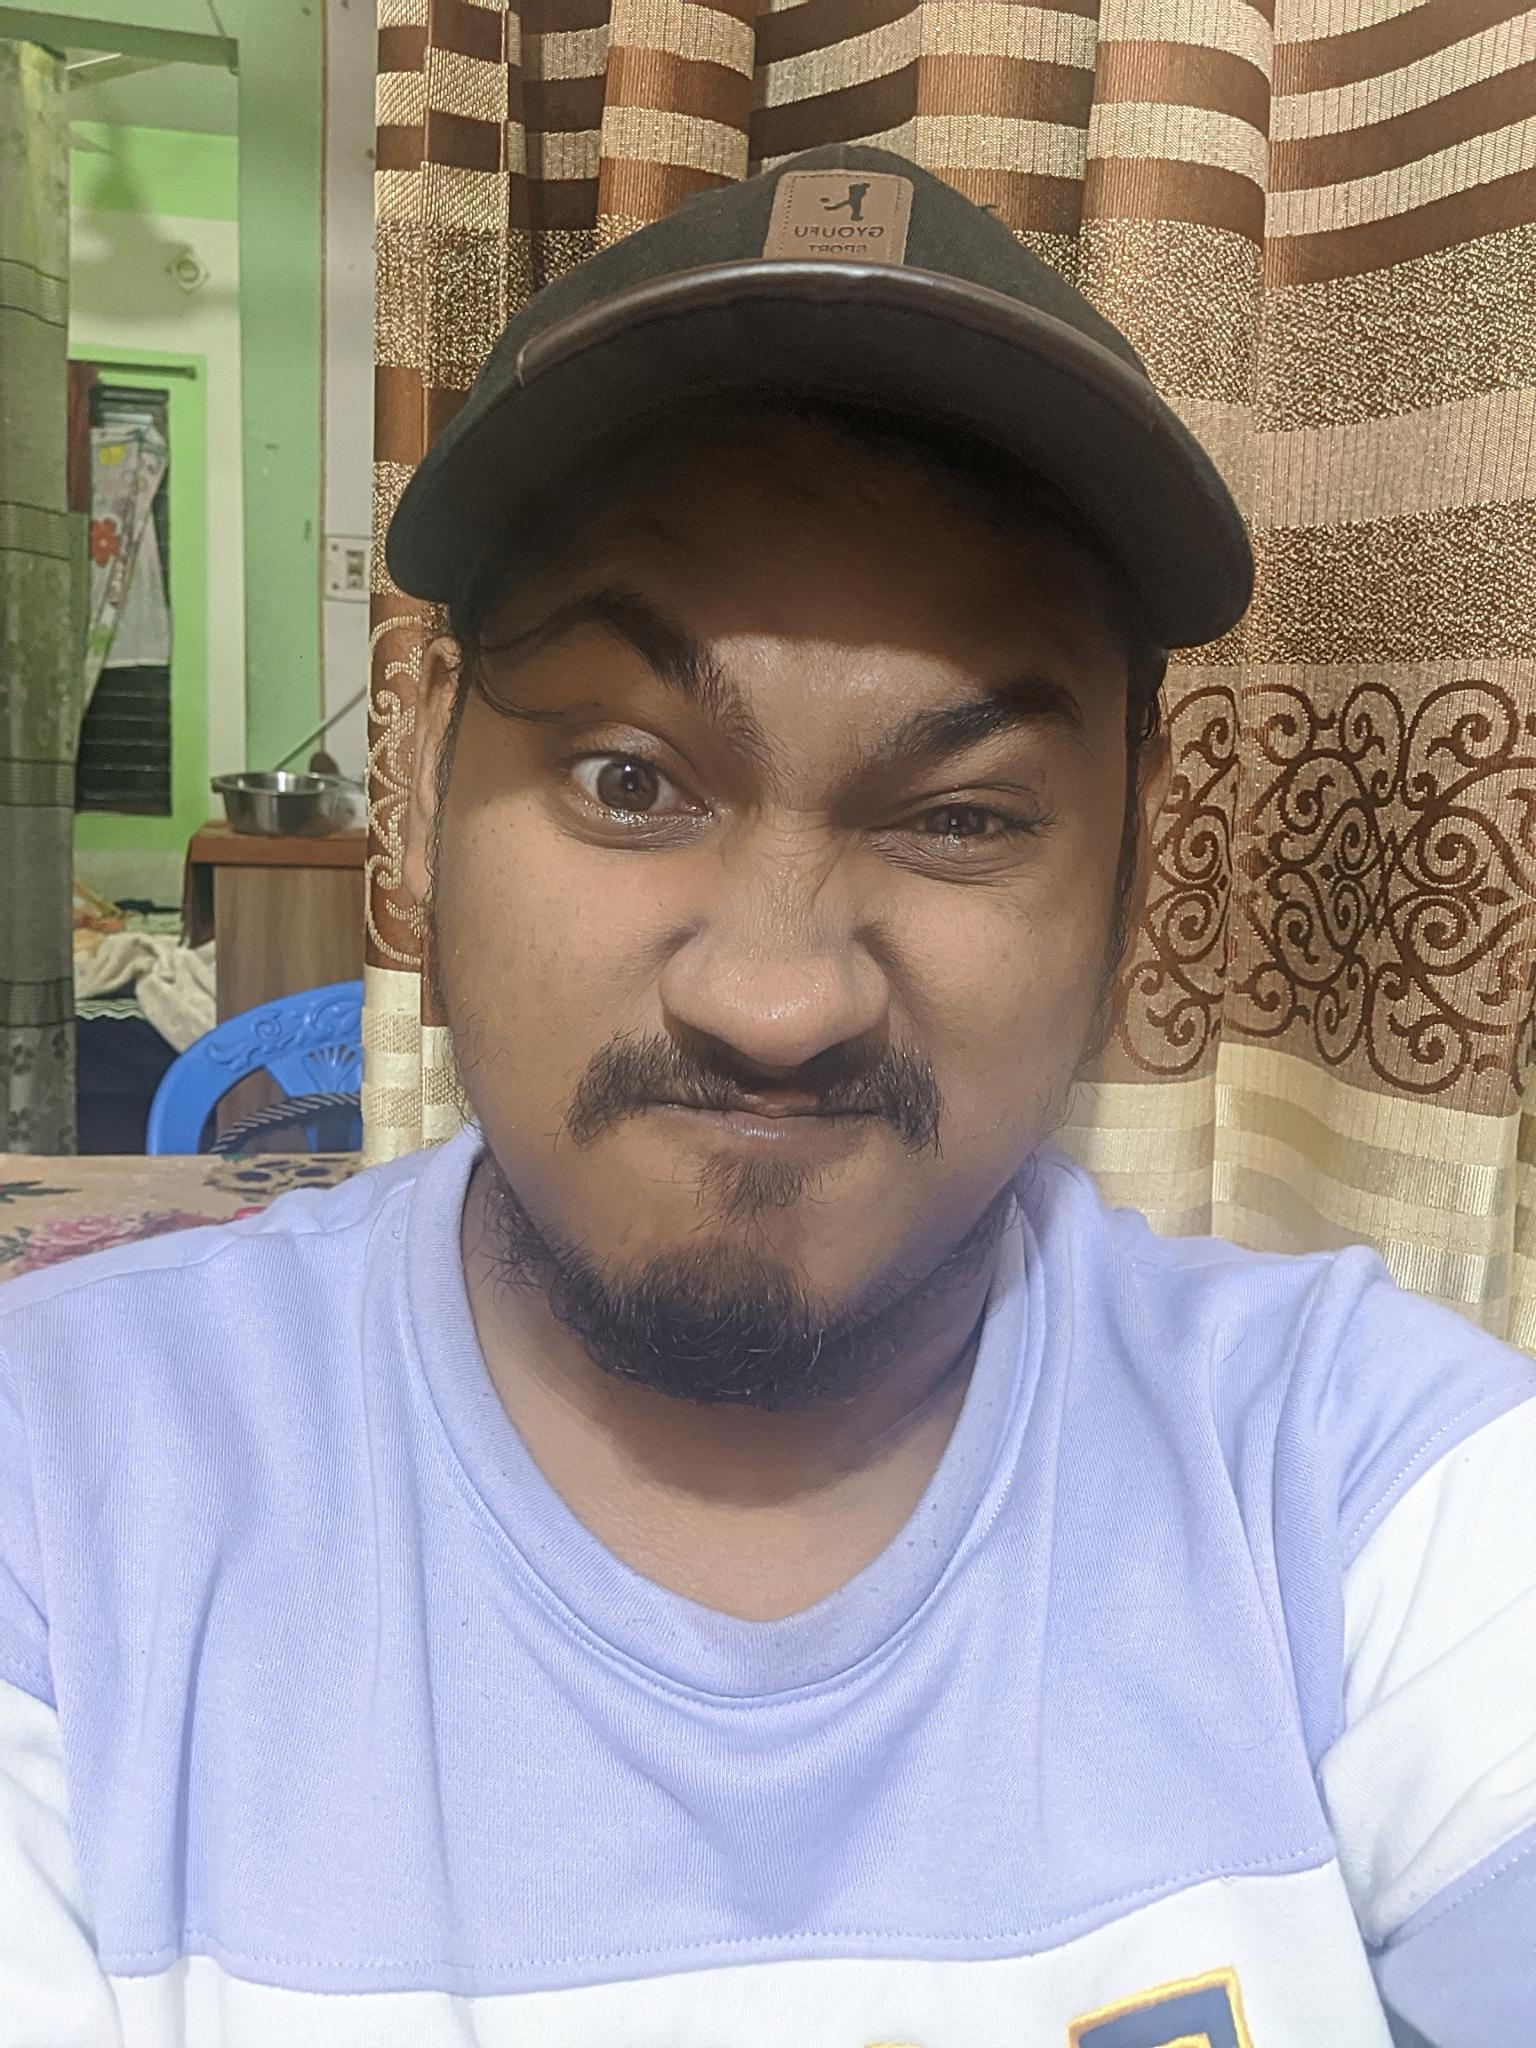Angry: (455, 534, 1129, 1335)
